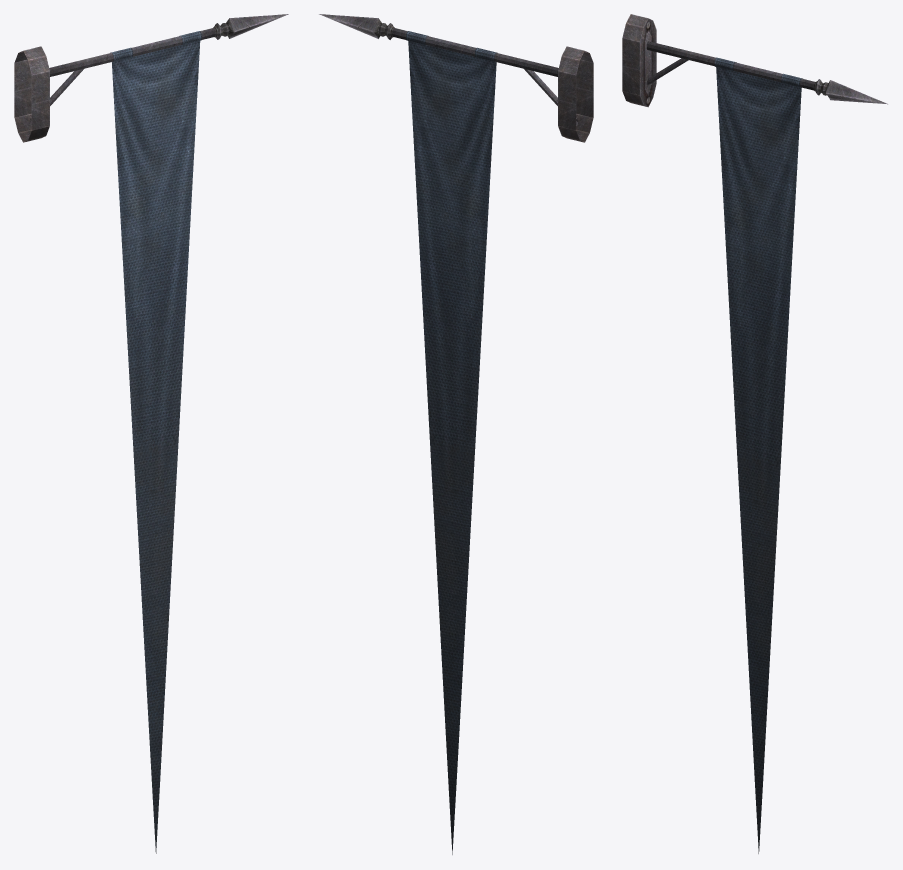
File: bg_lut_lucastle_castleflag02_sm_bjh.FBX
3 views of the same model, side by side, from view 1: azimuth 30°, elevation 25°; view 2: azimuth 150°, elevation 25°; view 3: azimuth 330°, elevation 25° (orthographic). The views are drawn at different scales.
Parts seen in each view (by area): view 1: bg_lut_lucastle_castleflag02_sm_bjh; view 2: bg_lut_lucastle_castleflag02_sm_bjh; view 3: bg_lut_lucastle_castleflag02_sm_bjh.
Part boxes in pixels (x1,y1,x2,y2): bg_lut_lucastle_castleflag02_sm_bjh: (14,14,288,853); bg_lut_lucastle_castleflag02_sm_bjh: (319,14,593,854); bg_lut_lucastle_castleflag02_sm_bjh: (622,14,887,853).
Size of the model in its own units: 179 by 538 by 20.22.
